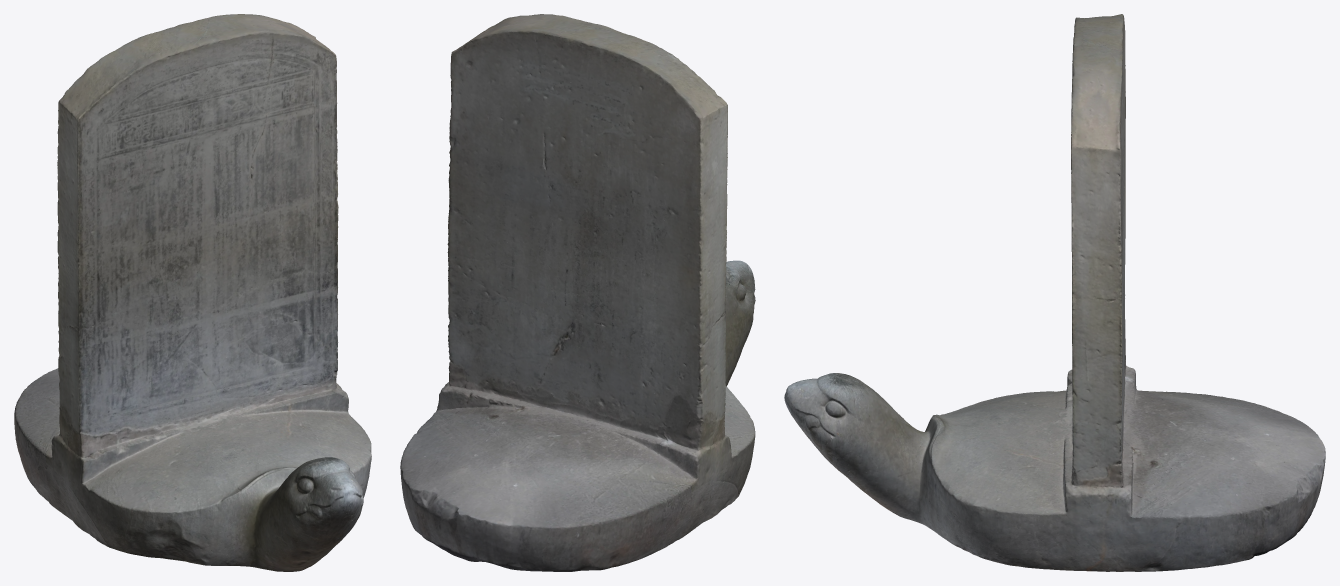
Rendered from bia-1487.glb.
3 renders of one model, left to right at view 1: azimuth 30°, elevation 25°; view 2: azimuth 150°, elevation 25°; view 3: azimuth 270°, elevation 25°, orthographic.
Parts seen in each view (by area): view 1: 17-1487; view 2: 17-1487; view 3: 17-1487.
Part boxes in pixels (x1,y1,x2,y2): 17-1487: (14, 14, 371, 571); 17-1487: (400, 14, 755, 571); 17-1487: (784, 14, 1325, 571).
Size of the model in its own units: 0.603 by 0.9999 by 1.04.
1 material, 1 textured.
